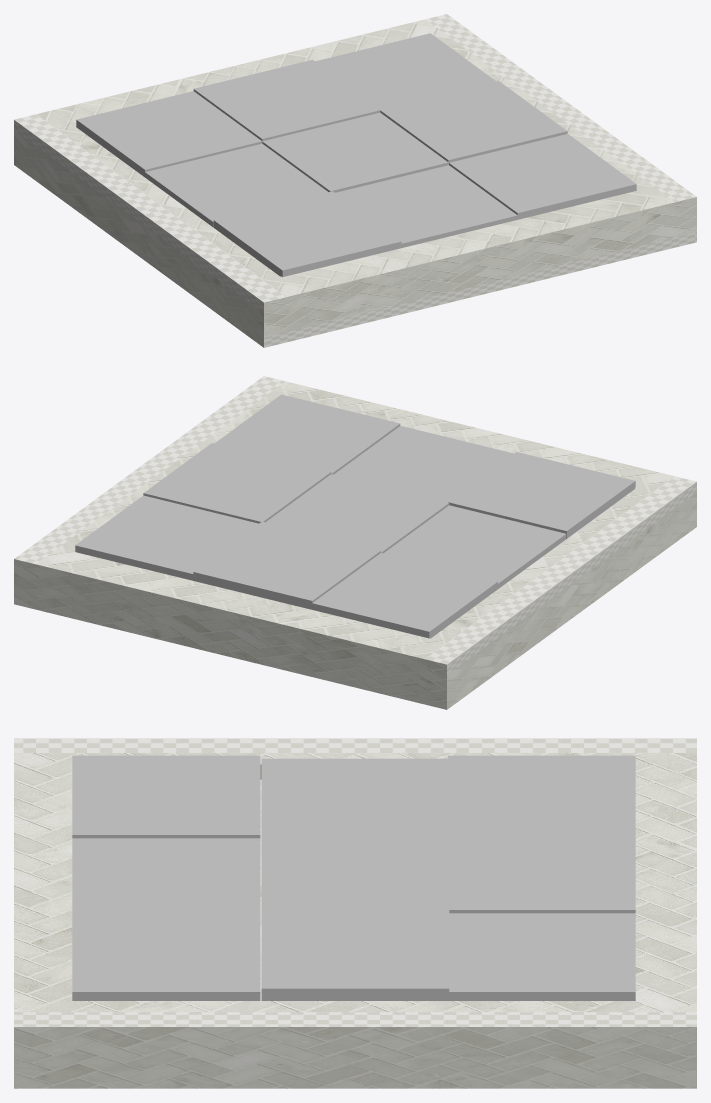
File: base esculturas.fbx
The picture shows the model from 3 angles, top to bottom: view 1: azimuth 30°, elevation 25°; view 2: azimuth 150°, elevation 25°; view 3: azimuth 270°, elevation 25°; orthographic projection. The views are drawn at different scales.
Visible parts, largest first — view 1: Cube.008, Cube; view 2: Cube.008, Cube; view 3: Cube.008, Cube.
Boxes of the visible parts, bbox=[...] form: Cube.008: bbox=[76, 33, 636, 277]; Cube: bbox=[14, 14, 696, 347]; Cube.008: bbox=[75, 394, 635, 638]; Cube: bbox=[14, 376, 696, 709]; Cube.008: bbox=[72, 755, 635, 1000]; Cube: bbox=[14, 738, 696, 1088].
Bounding box in the file's own units: 200 × 23.95 × 200.
